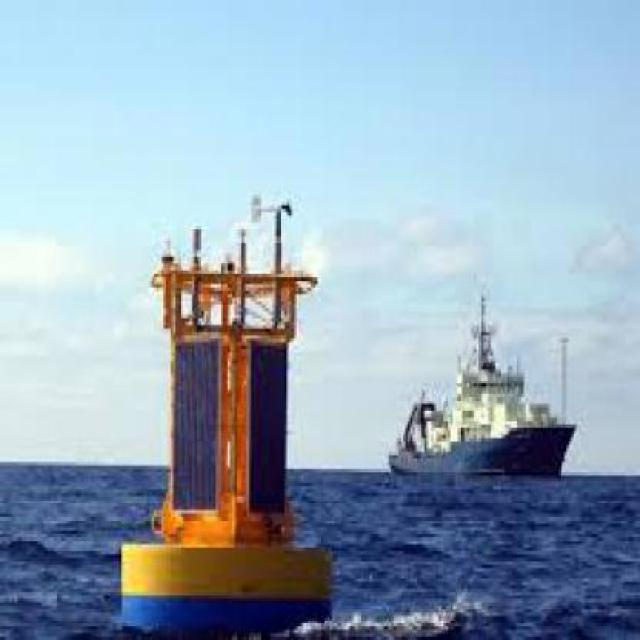buoy: (101, 179, 347, 634)
